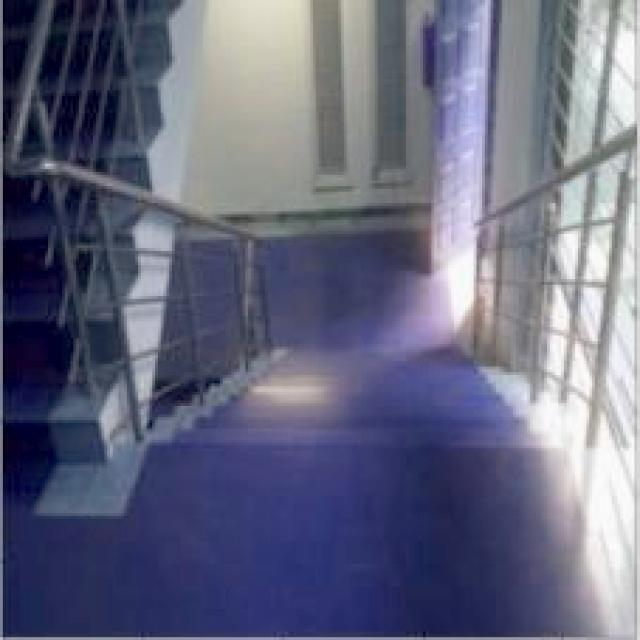downstair: (196, 354, 551, 492)
